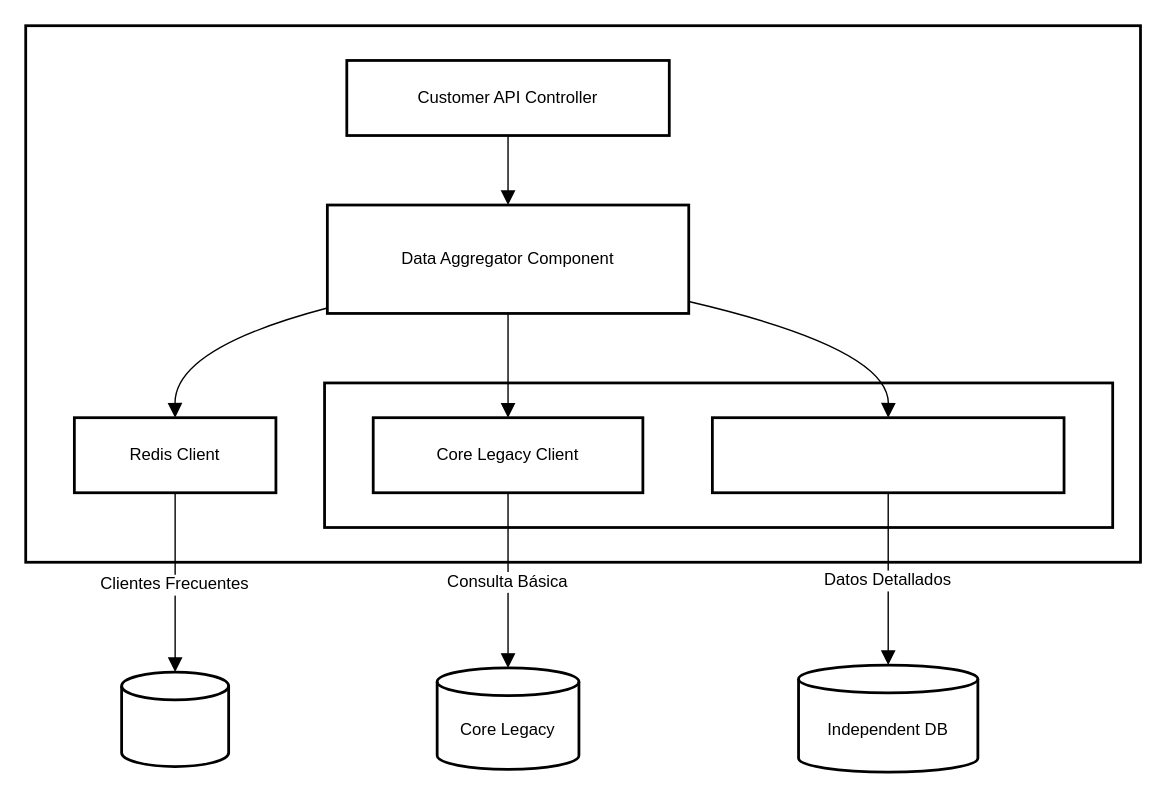
Image size: 1165x796. Some labels were removed from this diagram. Each missing label, with the box of its shape:
Adapters: (322, 381, 1113, 528)
Independent System Client: (710, 416, 1065, 493)
Redis HA: (120, 670, 229, 767)
